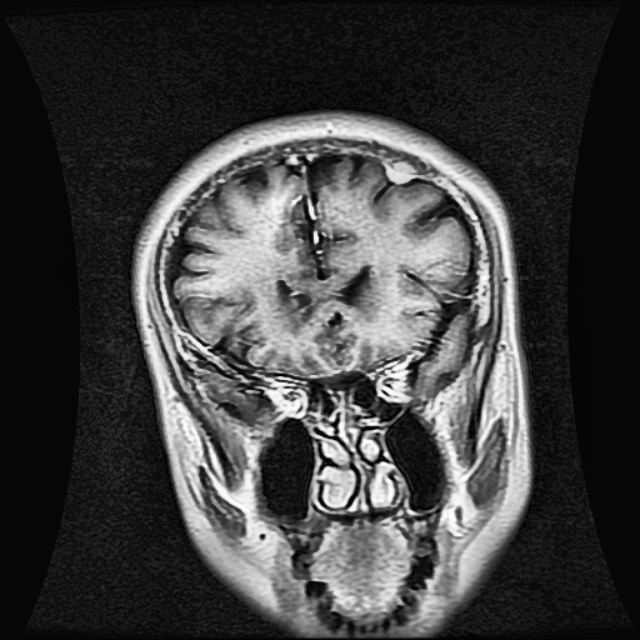Glioma: (385, 160, 417, 184)
